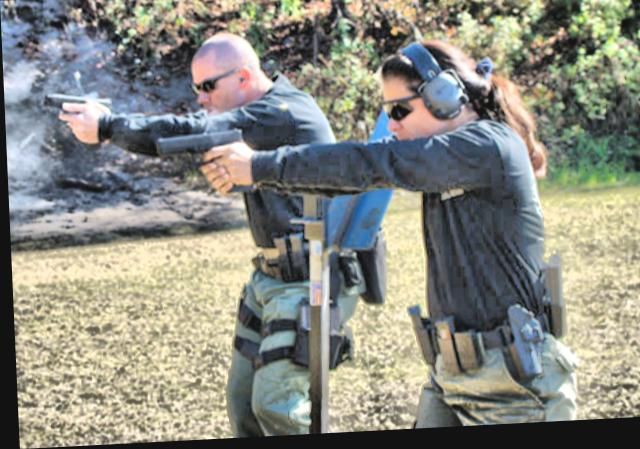pistol: (151, 130, 255, 200), (41, 86, 111, 152)
